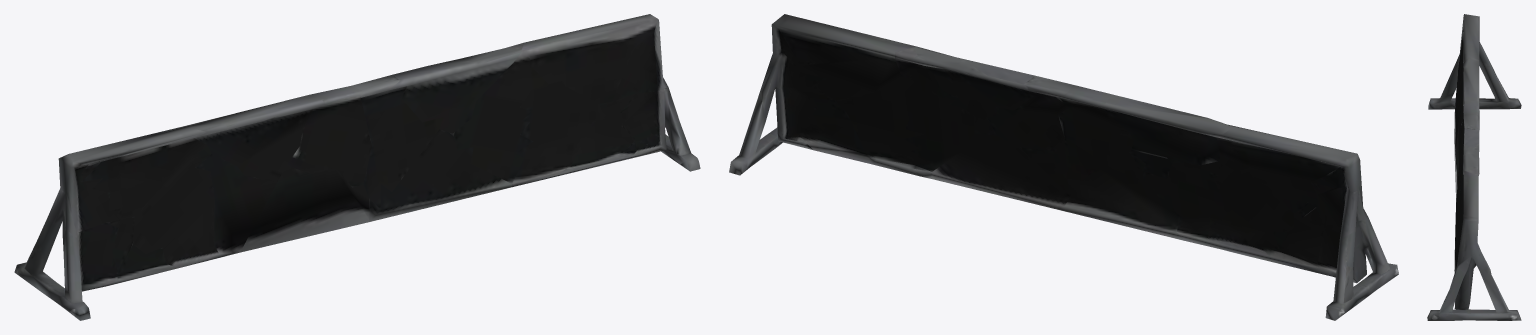
Rendered from adboard.glb.
The picture shows the model from 3 angles, left to right: view 1: azimuth 30°, elevation 25°; view 2: azimuth 150°, elevation 25°; view 3: azimuth 270°, elevation 25°; orthographic projection. The views are drawn at different scales.
Visible parts, largest first — view 1: adboard; view 2: adboard; view 3: adboard.
Part boxes in pixels (x1,y1,x2,y2): adboard: [14, 14, 700, 320]; adboard: [729, 14, 1398, 320]; adboard: [1427, 14, 1521, 320].
Bounding box in the file's own units: 4.98 × 1.05 × 0.909.
Materials: 1 (1 with a texture image).
